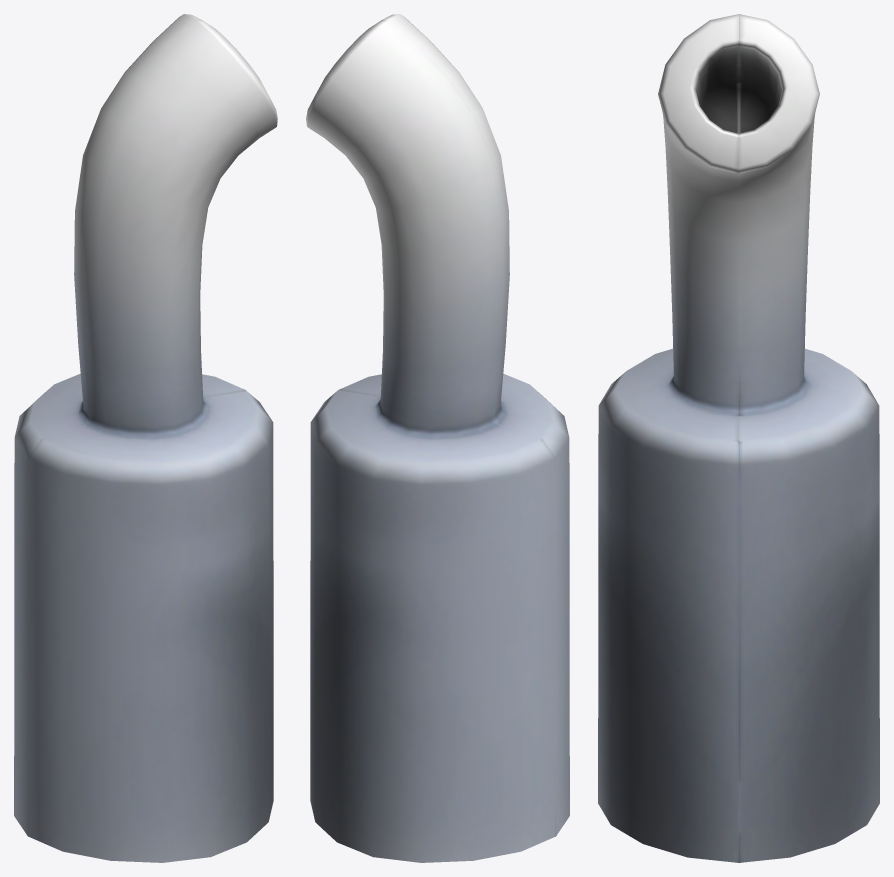
File: m_lorry_van_exhaust_01.fbx
The picture shows the model from 3 angles, left to right: view 1: azimuth 30°, elevation 25°; view 2: azimuth 150°, elevation 25°; view 3: azimuth 270°, elevation 25°; orthographic projection. The views are drawn at different scales.
Visible parts, largest first — view 1: m_lorry_van_exhaust_01; view 2: m_lorry_van_exhaust_01; view 3: m_lorry_van_exhaust_01.
Part boxes in pixels (x1=…): m_lorry_van_exhaust_01: x1=14, y1=14, x2=277, y2=862; m_lorry_van_exhaust_01: x1=306, y1=14, x2=569, y2=862; m_lorry_van_exhaust_01: x1=598, y1=14, x2=879, y2=862.
Bounding box in the file's own units: 0.8059 × 2.54 × 0.7937.
Materials: 1 (1 with a texture image).
